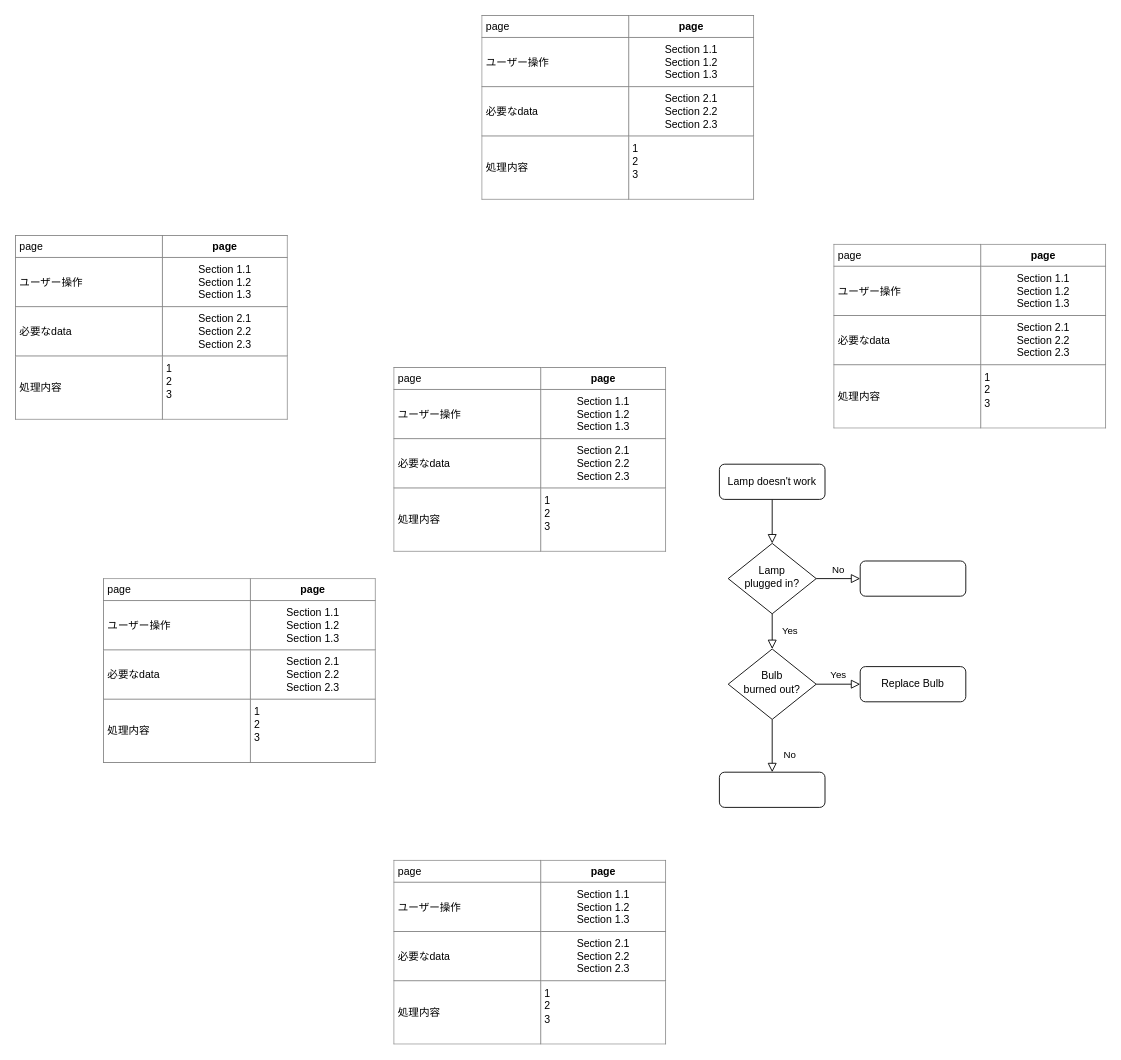
This 1121x1060 diagram has some shape labels left out. The centre of each missing label's shape, as x and y in pixels:
"Plug in lamp" belongs at (x=912, y=578).
"Repair Lamp" belongs at (x=772, y=789).
